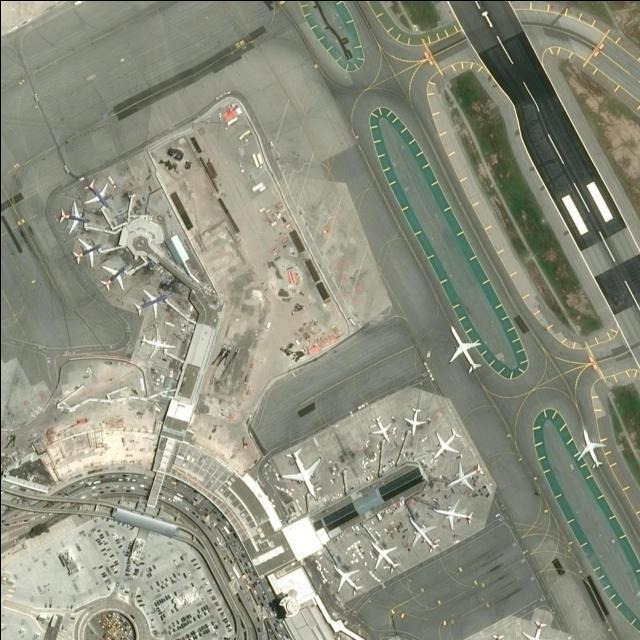Aircraft: (280, 448, 322, 498), (445, 327, 481, 373), (575, 426, 605, 474), (330, 565, 359, 595), (450, 465, 480, 493), (406, 522, 436, 549), (432, 428, 456, 458), (365, 549, 392, 571), (370, 413, 388, 444), (402, 409, 421, 435)
